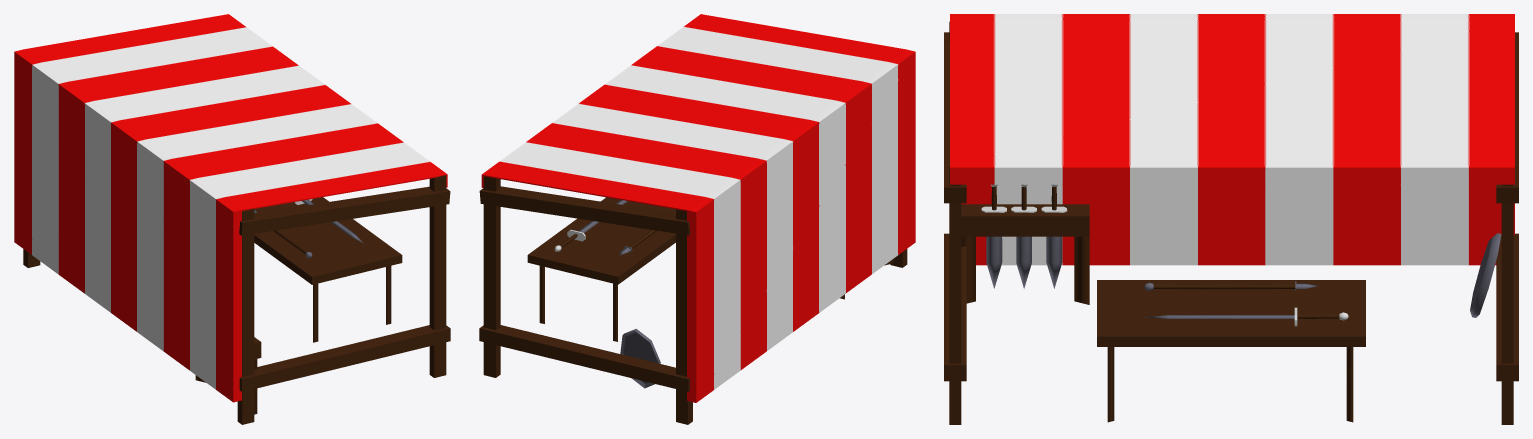
File: wep stall.fbx
3 renders of one model, left to right at view 1: azimuth 30°, elevation 25°; view 2: azimuth 150°, elevation 25°; view 3: azimuth 270°, elevation 25°, orthographic. The views are drawn at different scales.
Visible parts, largest first — view 1: Stall004, Table; view 2: Stall004, Table, Shield; view 3: Stall004, Table, Weapon Rack, Shield, Spear, Great Sword.
Part boxes in pixels (<box>): Stall004: <box>14,14,450,424</box>; Table: <box>254,197,402,342</box>; Stall004: <box>479,14,915,424</box>; Table: <box>527,197,675,341</box>; Shield: <box>620,328,660,388</box>; Stall004: <box>944,14,1518,424</box>; Table: <box>1097,280,1365,422</box>; Weapon Rack: <box>961,184,1089,304</box>; Shield: <box>1470,233,1501,317</box>; Spear: <box>1144,281,1318,290</box>; Great Sword: <box>1142,307,1348,326</box>.
Size of the model in its own units: 763 by 693 by 1303.
Materials: 7 (7 with a texture image).
